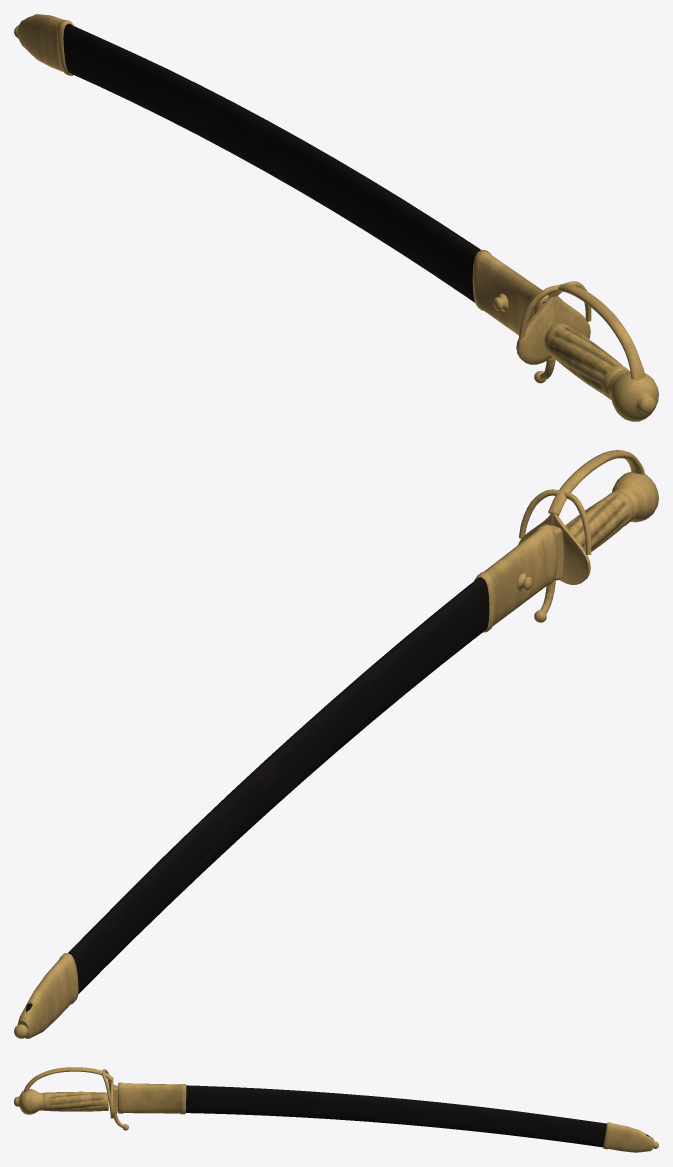
File: saber.glb
3 views of the same model, one above another, from view 1: azimuth 30°, elevation 25°; view 2: azimuth 150°, elevation 25°; view 3: azimuth 270°, elevation 25° (orthographic). The views are drawn at different scales.
Visible parts, largest first — view 1: Scabbard, Saber; view 2: Scabbard, Saber; view 3: Scabbard, Saber.
Boxes of the visible parts, box(x1,y1,x2,y2) form: Scabbard: box(14, 14, 548, 335); Saber: box(516, 281, 658, 421); Scabbard: box(14, 524, 557, 1038); Saber: box(518, 450, 658, 622); Scabbard: box(118, 1082, 658, 1152); Saber: box(14, 1067, 128, 1130).
Size of the model in its own units: 0.0531 by 0.1168 by 0.8034.
Materials: 3 (3 with a texture image).
